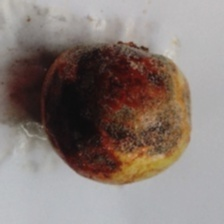guava: (39, 16, 176, 207)
